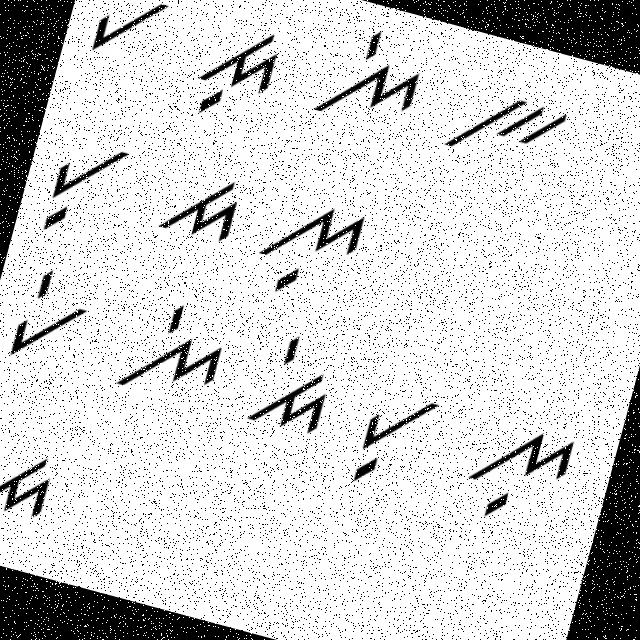da: (151, 154, 250, 262)
de: (237, 324, 347, 446)
du: (180, 2, 292, 132), (0, 434, 67, 559)
ne: (104, 284, 235, 416), (308, 19, 434, 142)
nu: (452, 399, 584, 538), (246, 186, 382, 316)
pe: (0, 244, 106, 375), (83, 0, 191, 75)
pu: (340, 367, 450, 503), (31, 123, 135, 249)
